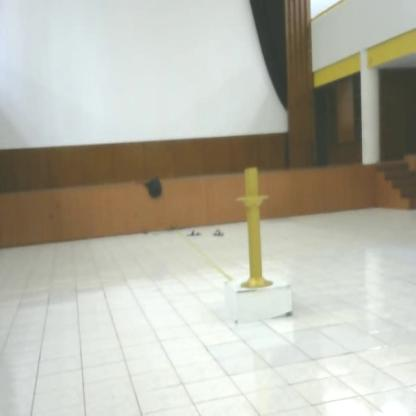pole: (234, 166, 277, 295)
